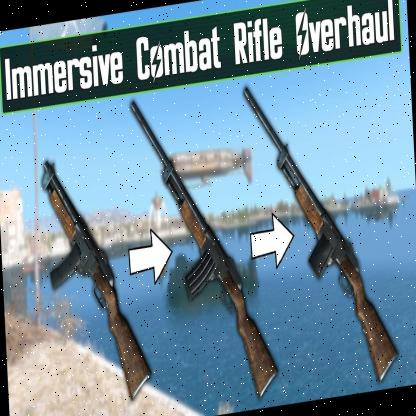rifle: (291, 106, 404, 396), (36, 148, 132, 416)
